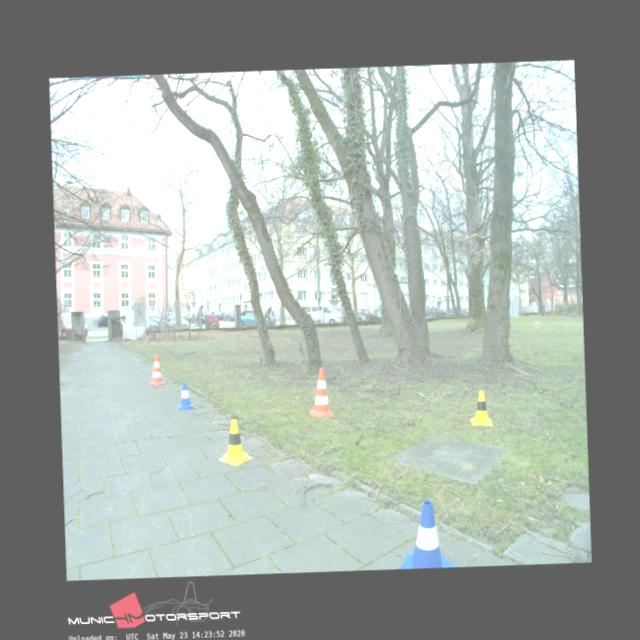blue_cone: (394, 499, 456, 569), (174, 381, 195, 411)
large_orange_cone: (308, 365, 333, 418), (147, 352, 165, 385)
yellow_cone: (217, 418, 253, 467), (470, 389, 492, 427)
